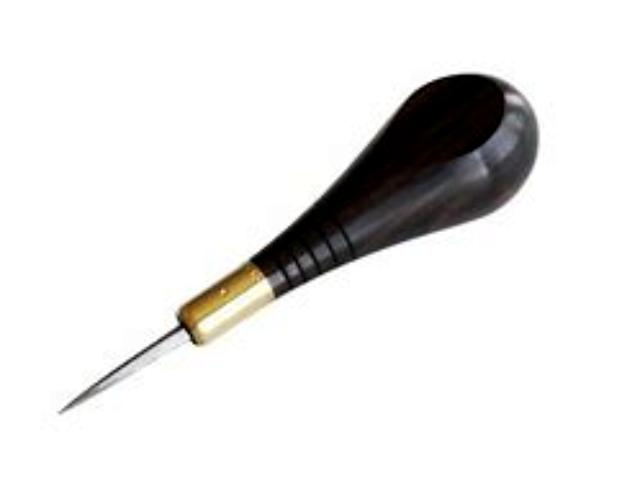ice pick: (59, 72, 544, 412)
